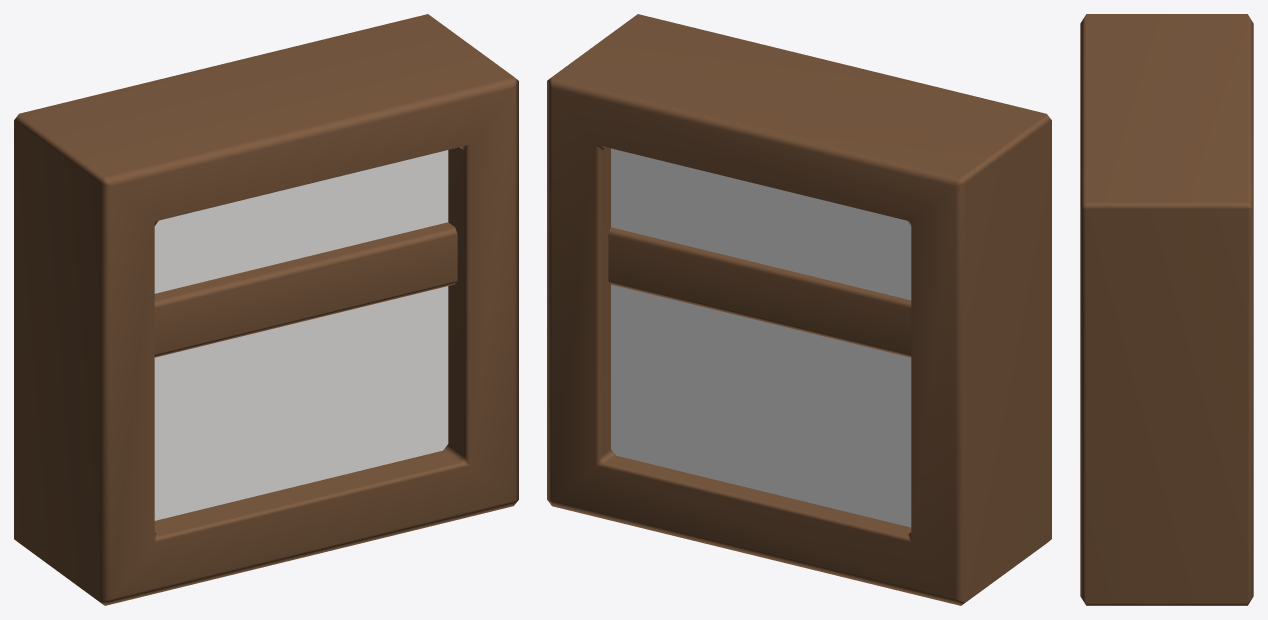
Rendered from Window_17.glb.
The picture shows the model from 3 angles, left to right: view 1: azimuth 30°, elevation 25°; view 2: azimuth 150°, elevation 25°; view 3: azimuth 270°, elevation 25°; orthographic projection. The views are drawn at different scales.
Parts seen in each view (by area): view 1: Window_17; view 2: Window_17; view 3: Window_17.
Boxes of the visible parts, box(x1,y1,x2,y2) form: Window_17: box(14, 14, 518, 605); Window_17: box(547, 14, 1051, 605); Window_17: box(1080, 14, 1253, 605).
Bounding box in the file's own units: 1.47 × 1.44 × 0.5595.
2 materials, 2 textured.
